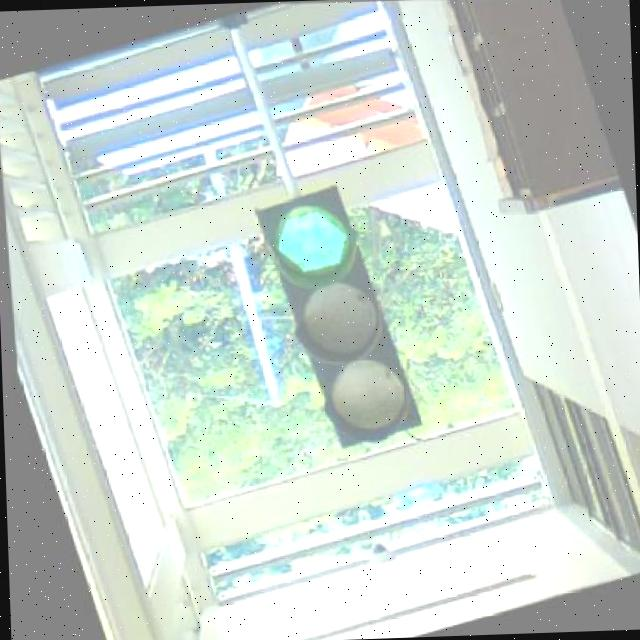green_light: (248, 178, 422, 456)
